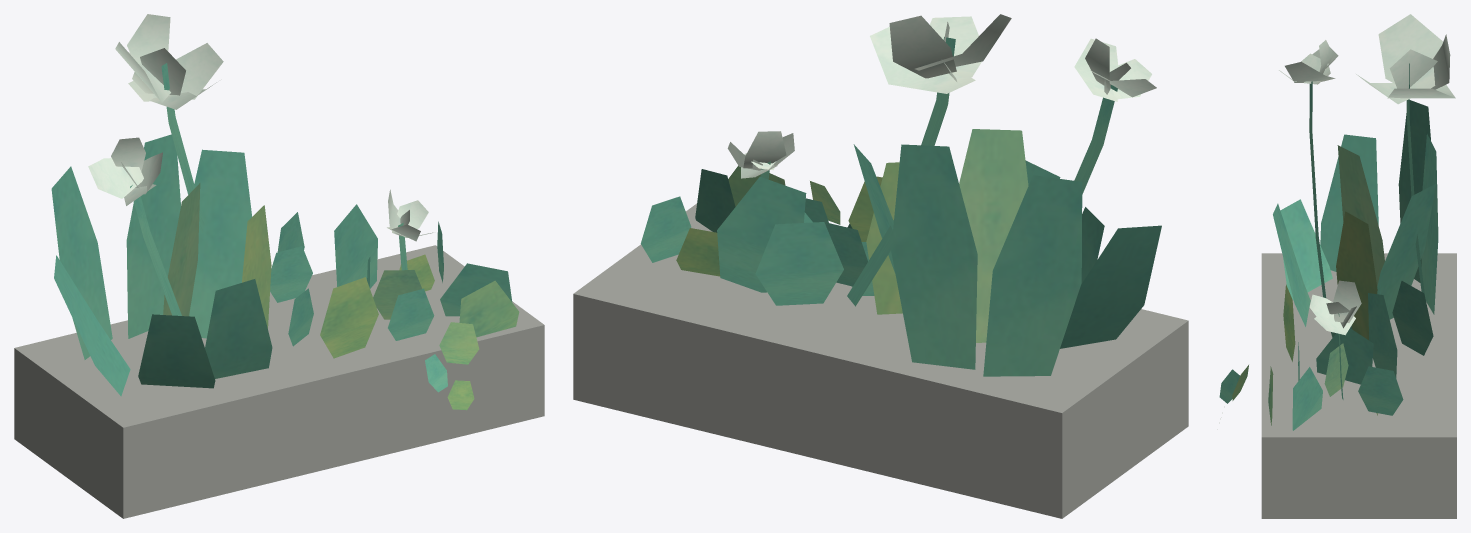
The model's file is lily.fbx.
3 renders of one model, left to right at view 1: azimuth 30°, elevation 25°; view 2: azimuth 150°, elevation 25°; view 3: azimuth 270°, elevation 25°, orthographic. The views are drawn at different scales.
Visible parts, largest first — view 1: pPlane131, pPlane168, pPlane163, pPlane166, pPlane161, pPlane167, pPlane178, pPlane162, pPlane164, pPlane173, pPlane176, pPlane165 (+18 smaller); view 2: pPlane131, pPlane163, pPlane161, pPlane164, pPlane162, pPlane169, pPlane173, polySurface346, pPlane165, pPlane172, polySurface343, pPlane194 (+13 smaller); view 3: pPlane131, pPlane168, pPlane165, pPlane162, pPlane164, polySurface344, pPlane167, pPlane161, pPlane169, pPlane163, pPlane173, pPlane177 (+18 smaller).
Part boxes in pixels (bbox=[...]): pPlane131: bbox=[14, 245, 544, 518]; pPlane168: bbox=[189, 149, 252, 338]; pPlane163: bbox=[126, 134, 180, 338]; pPlane166: bbox=[205, 279, 272, 378]; pPlane161: bbox=[51, 166, 112, 359]; pPlane167: bbox=[138, 314, 215, 388]; pPlane178: bbox=[320, 277, 378, 358]; pPlane162: bbox=[54, 255, 130, 396]; pPlane164: bbox=[163, 183, 200, 316]; pPlane173: bbox=[334, 204, 377, 288]; pPlane176: bbox=[459, 280, 519, 337]; pPlane165: bbox=[242, 205, 271, 328]; pPlane131: bbox=[573, 203, 1188, 518]; pPlane163: bbox=[891, 144, 977, 369]; pPlane161: bbox=[983, 175, 1082, 376]; pPlane164: bbox=[959, 129, 1028, 342]; pPlane162: bbox=[1060, 225, 1161, 348]; pPlane169: bbox=[755, 222, 843, 305]; pPlane173: bbox=[717, 176, 806, 292]; polySurface346: bbox=[889, 15, 956, 78]; pPlane165: bbox=[866, 162, 902, 314]; pPlane172: bbox=[640, 196, 691, 262]; polySurface343: bbox=[870, 27, 975, 93]; pPlane194: bbox=[847, 37, 955, 306]; pPlane131: bbox=[1261, 253, 1456, 518]; pPlane168: bbox=[1377, 184, 1435, 319]; pPlane165: bbox=[1336, 211, 1377, 340]; pPlane162: bbox=[1320, 134, 1378, 271]; pPlane164: bbox=[1337, 145, 1384, 286]; polySurface344: bbox=[1378, 14, 1442, 88]; pPlane167: bbox=[1280, 199, 1332, 300]; pPlane161: bbox=[1398, 100, 1430, 282]; pPlane169: bbox=[1392, 281, 1433, 355]; pPlane163: bbox=[1421, 134, 1438, 314]; pPlane173: bbox=[1368, 293, 1397, 377]; pPlane177: bbox=[1316, 328, 1373, 384].
Size of the model in its own units: 1.23 by 1.05 by 0.6402.
2 materials, 1 textured.
